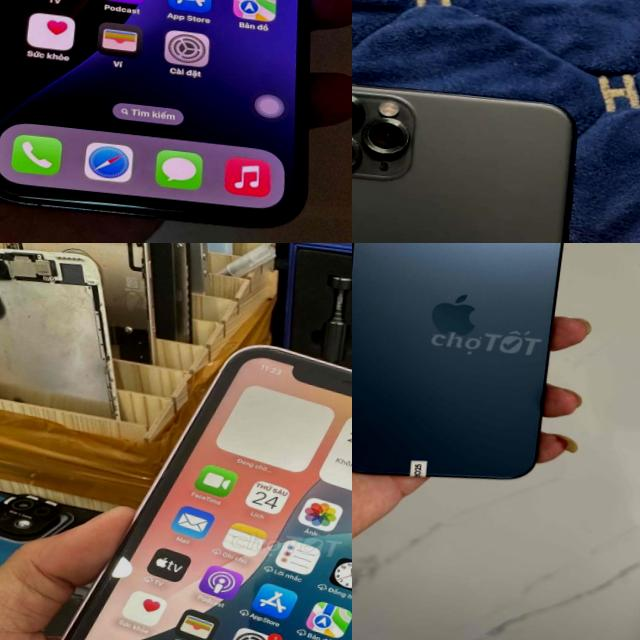gen_11: (352, 85, 575, 243)
gen_12_13: (0, 0, 352, 242), (352, 243, 574, 494)
gen_x_xs: (61, 346, 352, 640)
